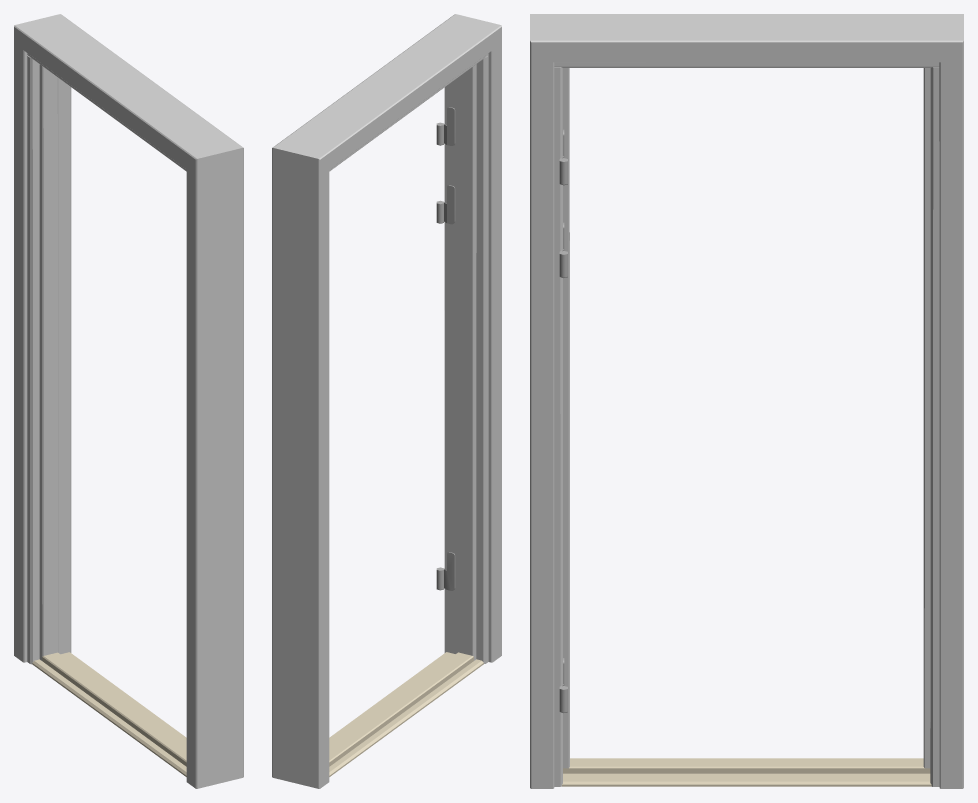
The model's file is ww_door_type_b_frame.fbx.
3 renders of one model, left to right at view 1: azimuth 30°, elevation 25°; view 2: azimuth 150°, elevation 25°; view 3: azimuth 270°, elevation 25°, orthographic. The views are drawn at different scales.
Visible parts, largest first — view 1: generisk_dør_type_b_1_karm; view 2: generisk_dør_type_b_1_karm; view 3: generisk_dør_type_b_1_karm.
Boxes of the visible parts, x1,y1,x2,y2 form: generisk_dør_type_b_1_karm: (14, 14, 243, 788); generisk_dør_type_b_1_karm: (272, 14, 501, 788); generisk_dør_type_b_1_karm: (530, 14, 963, 788).
Size of the model in its own units: 21.1 by 247 by 130.
